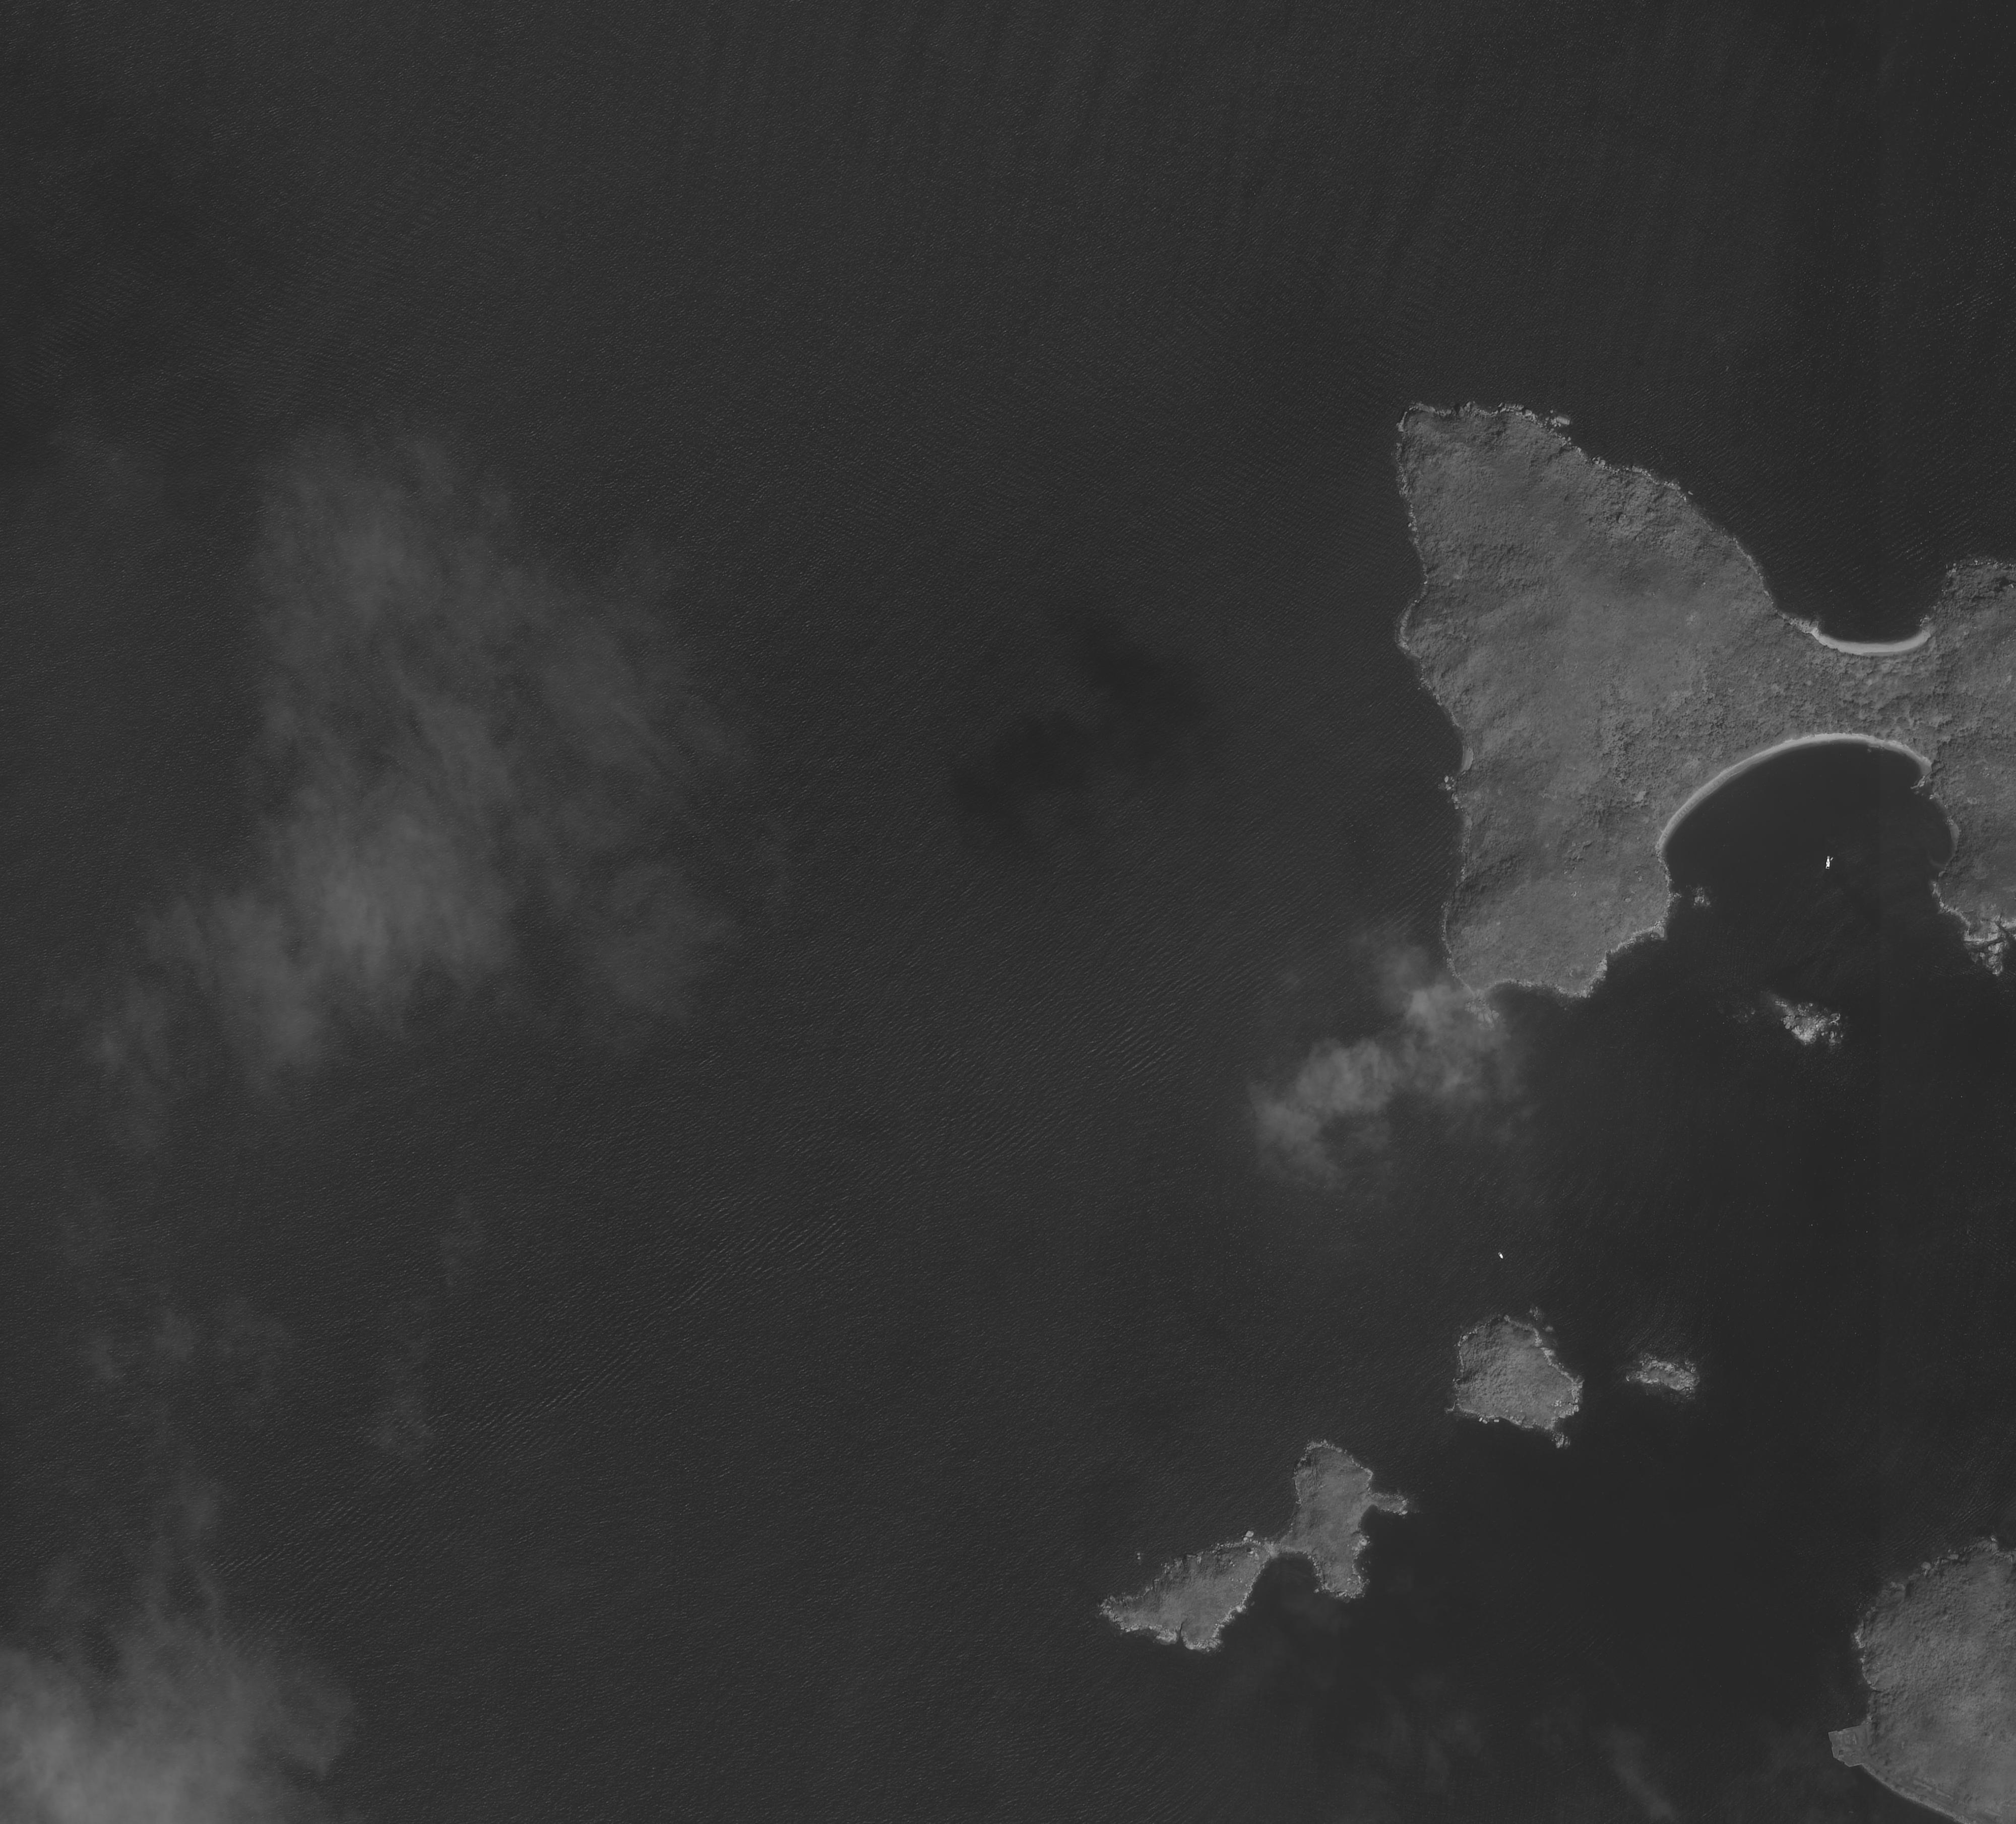ship: (1825, 857, 1833, 871), (1496, 1250, 1505, 1260)
